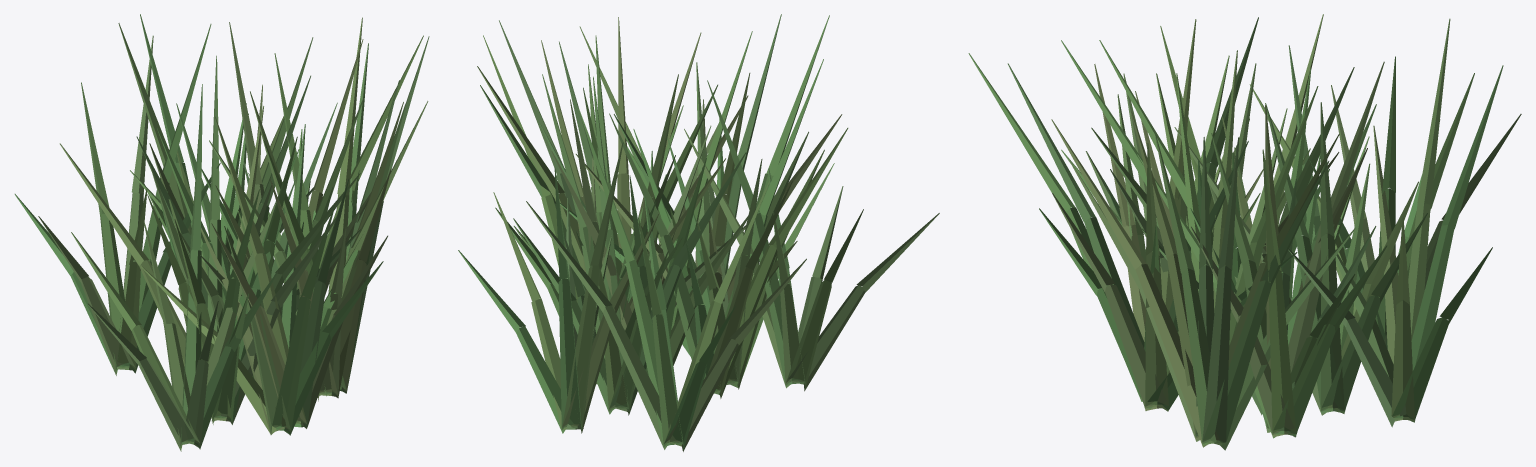
Rendered from taiga_grass.glb.
3 views of the same model, side by side, from view 1: azimuth 30°, elevation 25°; view 2: azimuth 150°, elevation 25°; view 3: azimuth 270°, elevation 25° (orthographic). The views are drawn at different scales.
Parts seen in each view (by area): view 1: taiga_grass; view 2: taiga_grass; view 3: taiga_grass.
Part boxes in pixels (left/top/right/bottom): taiga_grass: left=14, top=14, right=429, bottom=451; taiga_grass: left=458, top=14, right=939, bottom=451; taiga_grass: left=968, top=14, right=1521, bottom=450.
Size of the model in its own units: 1.05 by 0.8276 by 1.11.
